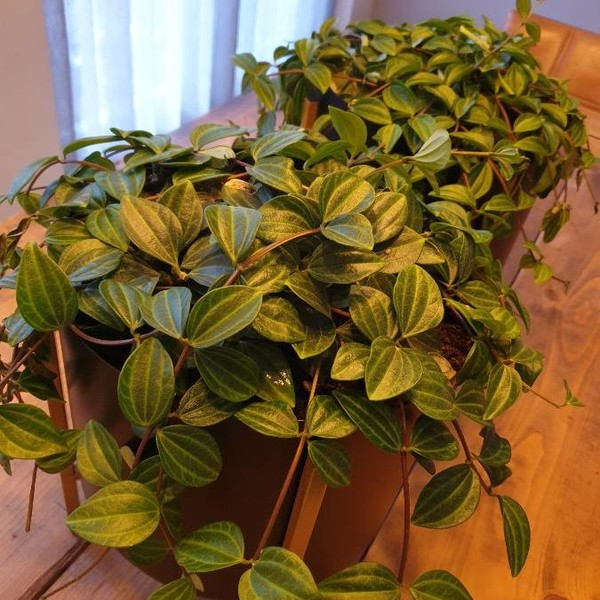obstacle: (8, 115, 483, 587), (286, 6, 563, 254)
